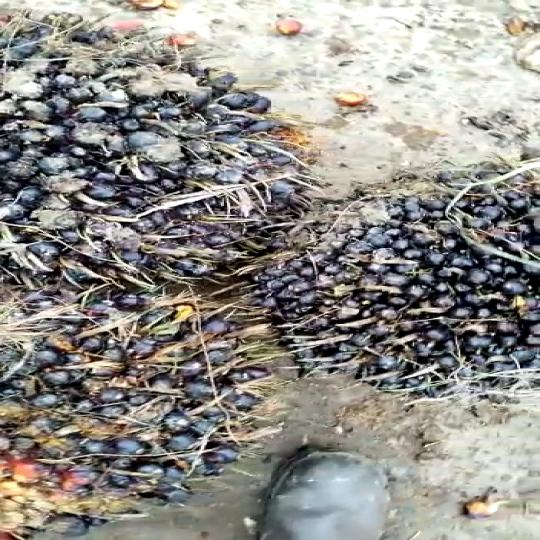mentah: (0, 0, 327, 292), (260, 170, 540, 406), (0, 298, 270, 536)
